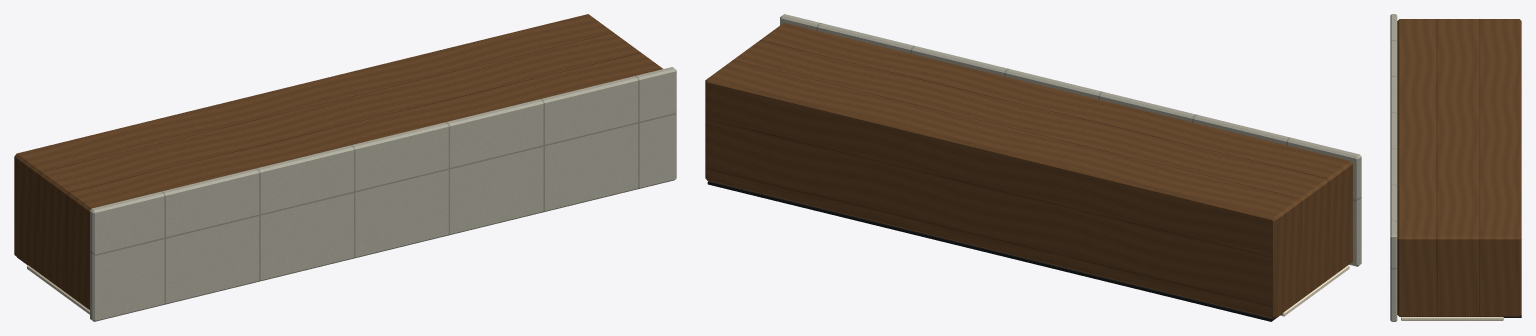
The model's file is kitchen_south.obj.
The picture shows the model from 3 angles, left to right: view 1: azimuth 30°, elevation 25°; view 2: azimuth 150°, elevation 25°; view 3: azimuth 270°, elevation 25°; orthographic projection. The views are drawn at different scales.
Parts seen in each view (by area): view 1: kitchen_south_tile, kitchen_south_oak; view 2: kitchen_south_oak, kitchen_south_tile, kitchen_south_charcoal; view 3: kitchen_south_oak, kitchen_south_tile, kitchen_south_linen.
Part boxes in pixels (x1=…): kitchen_south_tile: x1=90, y1=67, x2=676, y2=321; kitchen_south_oak: x1=14, y1=14, x2=662, y2=309; kitchen_south_oak: x1=705, y1=23, x2=1352, y2=319; kitchen_south_tile: x1=780, y1=14, x2=1361, y2=266; kitchen_south_charcoal: x1=707, y1=181, x2=1282, y2=321; kitchen_south_oak: x1=1397, y1=19, x2=1521, y2=316; kitchen_south_tile: x1=1390, y1=14, x2=1397, y2=321; kitchen_south_linen: x1=1401, y1=317, x2=1503, y2=320.
Size of the model in its own units: 148 by 28.1 by 37.
Materials: 5 (5 with a texture image).
